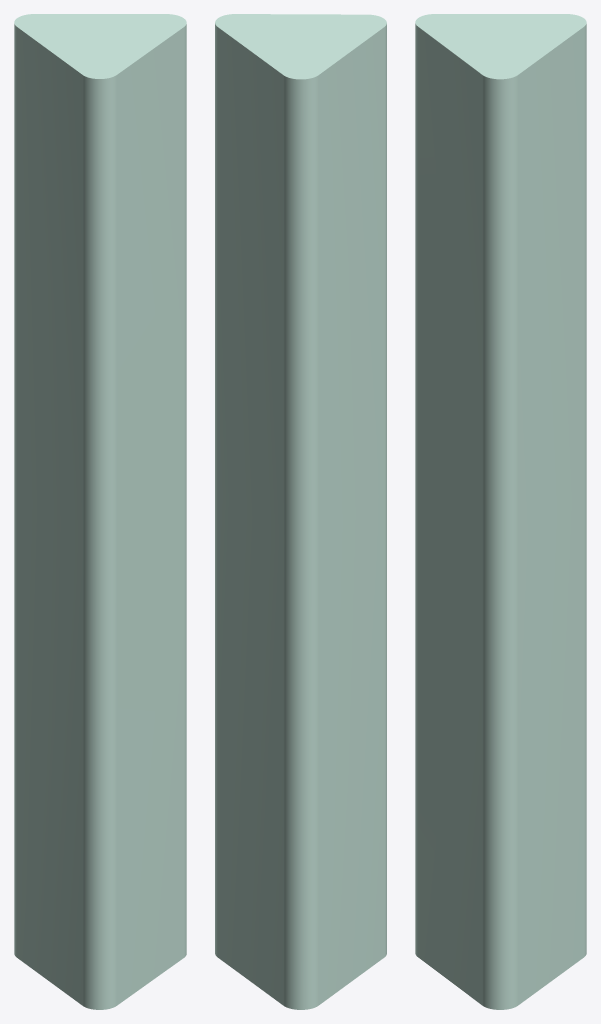
The picture shows the model from 3 angles, left to right: view 1: azimuth 30°, elevation 25°; view 2: azimuth 150°, elevation 25°; view 3: azimuth 270°, elevation 25°; orthographic projection.
Visible parts, largest first — view 1: Renderer Node; view 2: Renderer Node; view 3: Renderer Node.
Part boxes in pixels (<box>): Renderer Node: <box>14,14,186,1009</box>; Renderer Node: <box>215,14,386,1009</box>; Renderer Node: <box>415,14,586,1009</box>.
Bounding box in the file's own units: 0.214 × 1.42 × 0.2372.
